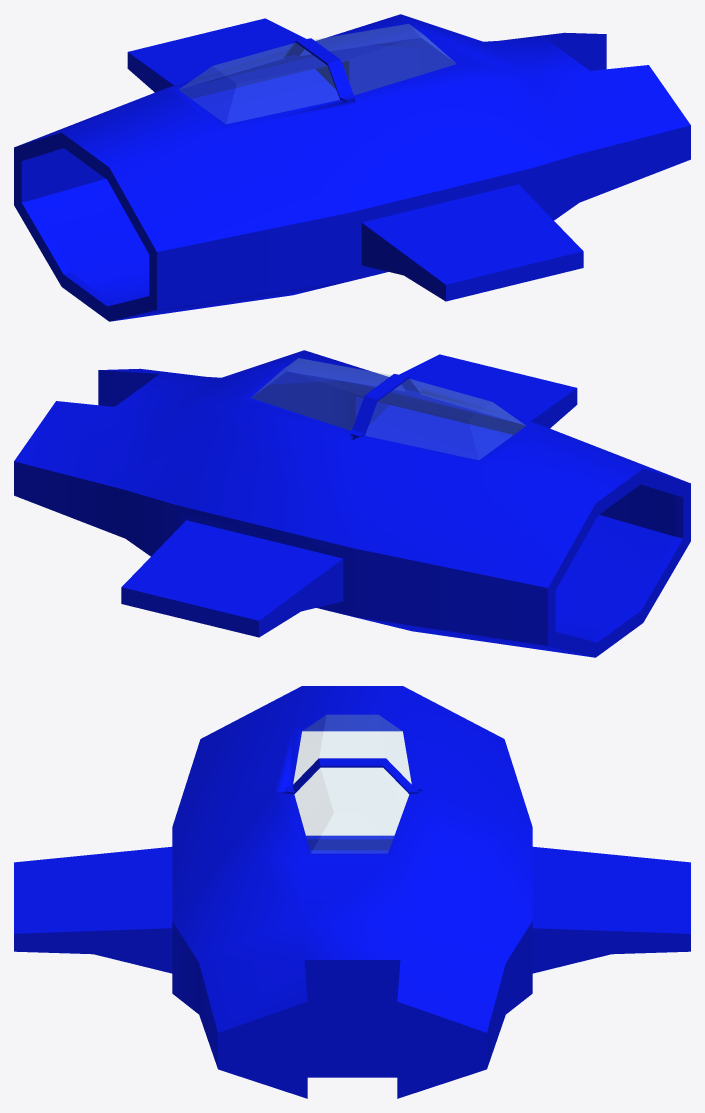
The model's file is boss_1.FBX.
3 renders of one model, top to bottom at view 1: azimuth 30°, elevation 25°; view 2: azimuth 150°, elevation 25°; view 3: azimuth 270°, elevation 25°, orthographic. The views are drawn at different scales.
Parts seen in each view (by area): view 1: Box030; view 2: Box030; view 3: Box030.
Part boxes in pixels (x1,y1,x2,y2): Box030: (14, 14, 690, 321); Box030: (14, 350, 690, 657); Box030: (14, 686, 690, 1098).
Bounding box in the file's own units: 130 × 132 × 48.14.
